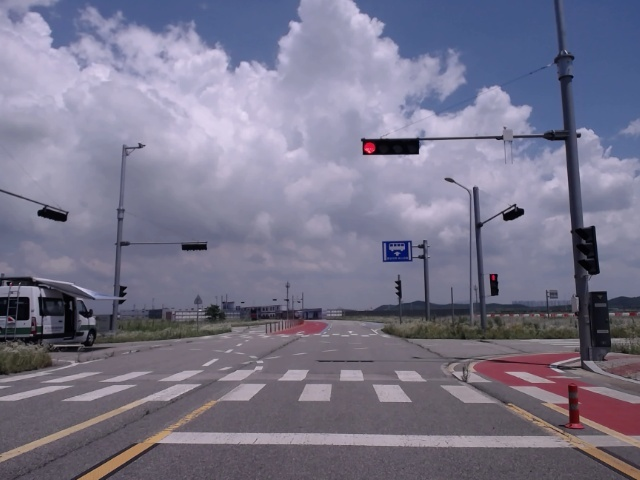red_4: (360, 138, 421, 156)
